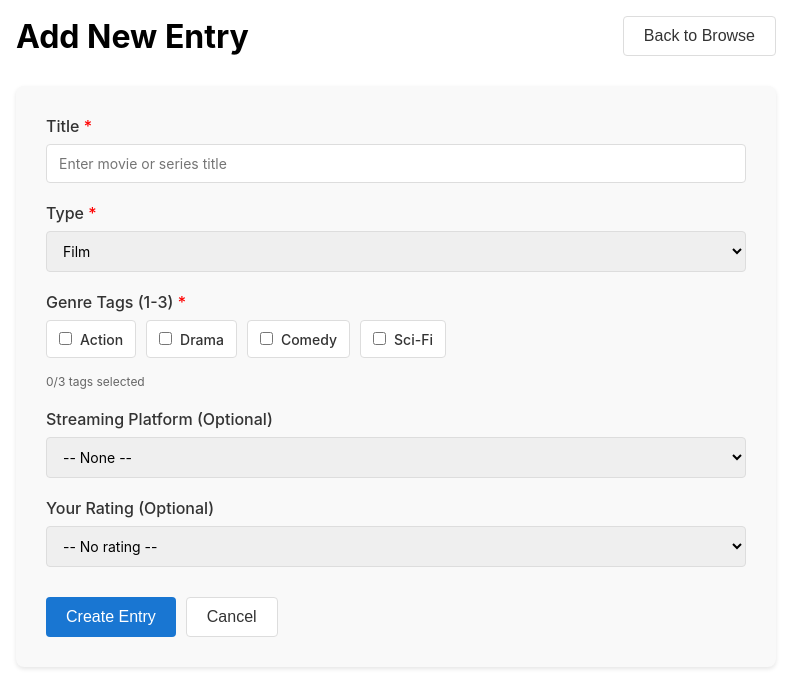
Test: AddEntryPage › should show tag count indicator
Expected: the text "0/3 tags selected" is shown, [46, 374, 145, 389]
Click the checkbox labelled "Action" at point(66, 338), box [59, 332, 72, 345]
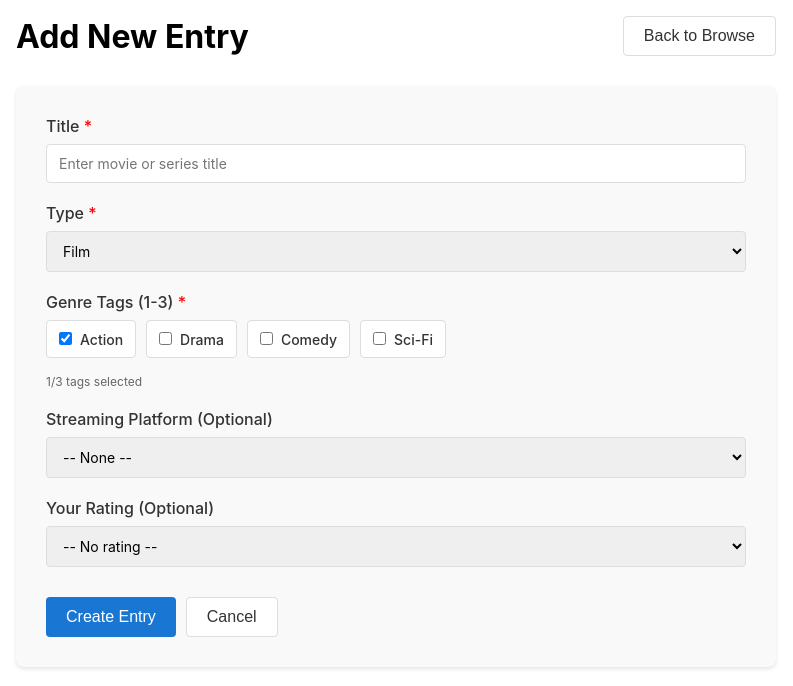
Expected: the text "1/3 tags selected" is shown, [46, 374, 142, 389]
